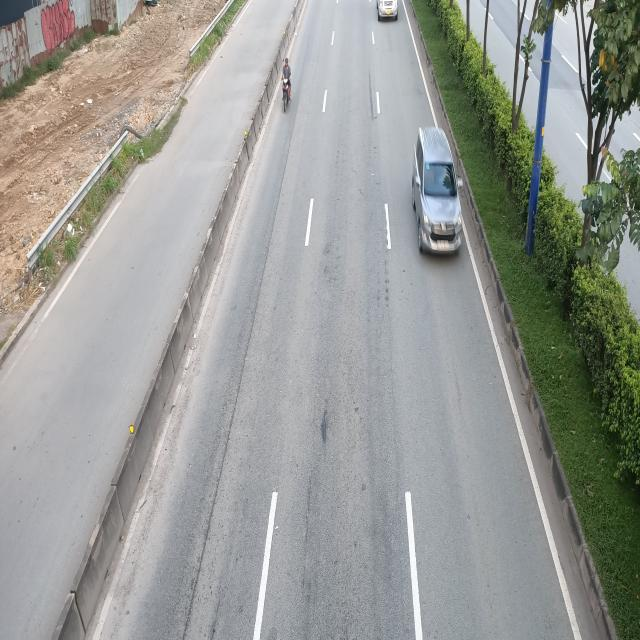car: (413, 128, 463, 261)
